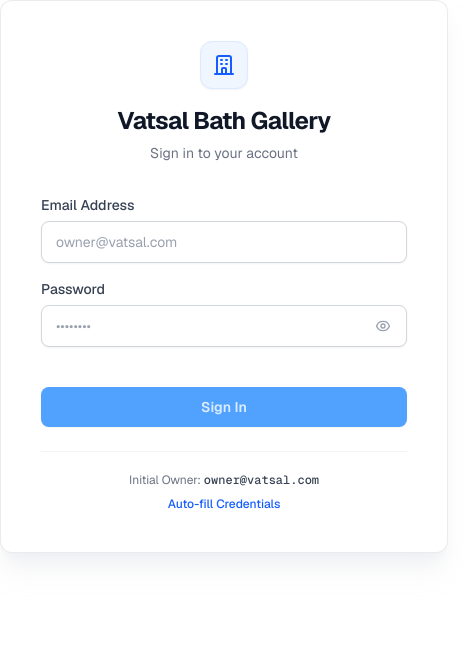
Test: LoginForm › displays error on 401
This screenshot has width=465, height=651.
In the field labelled "Email Address": (224, 242) [41,221,407,263], type "test@example.com"
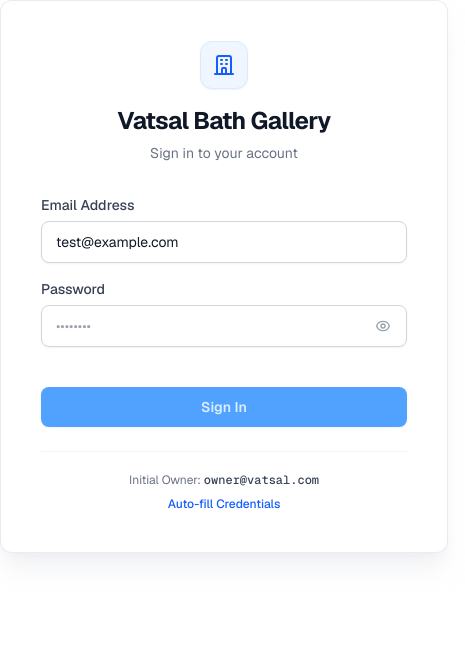
In the password field labelled "Password": (224, 326) [41,305,407,347], type "wrong"
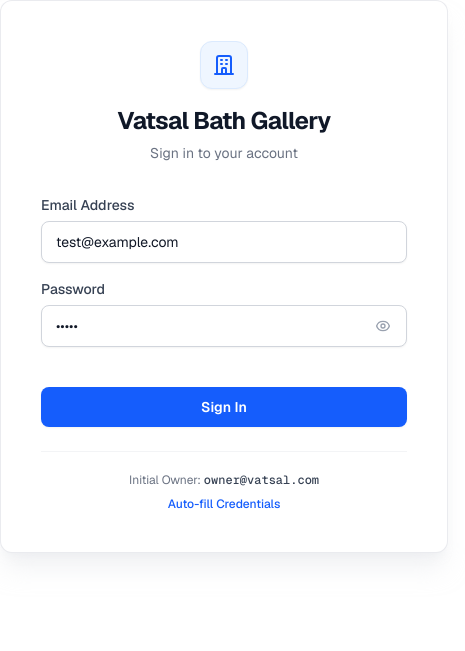
Click the button "Sign In": (224, 407) [41,387,407,427]
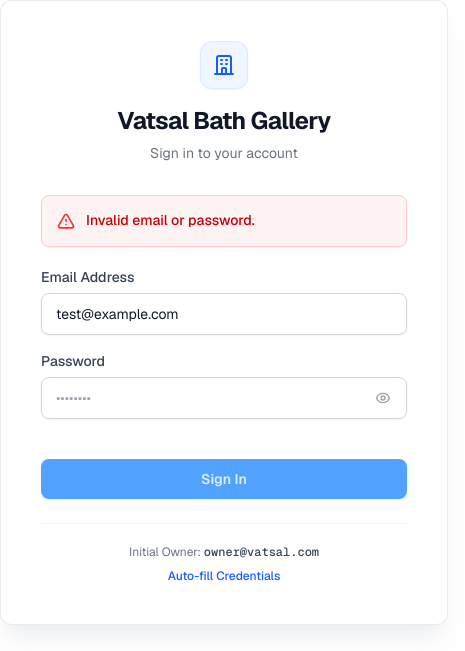
Check: the text "Invalid email or password." is shown, box [86,211,255,229]
